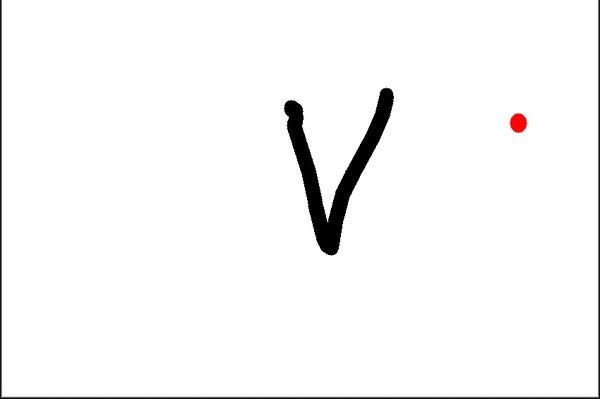V: (274, 76, 402, 263)
